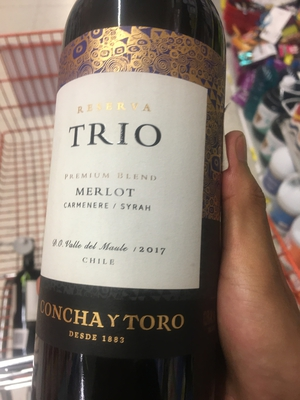trio merlot: (39, 16, 227, 397)
